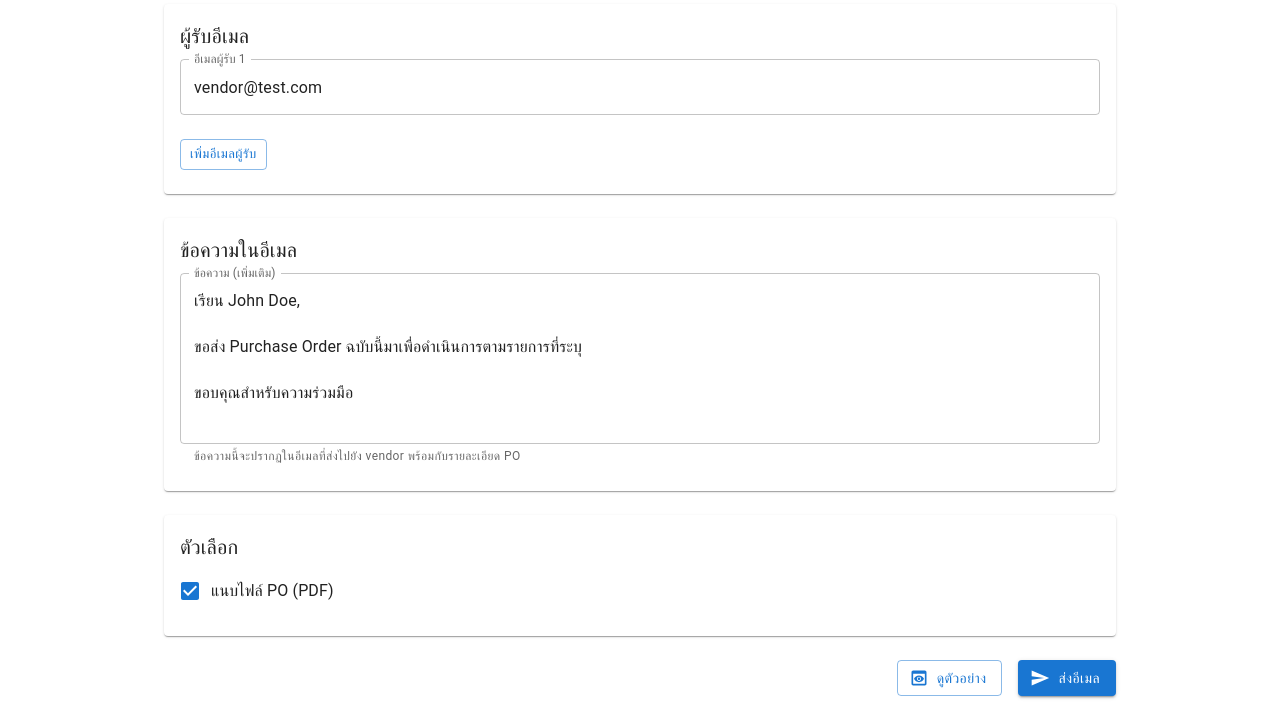
Test case: POEmailForm › Preview Functionality › opens preview dialog when preview button is clicked
(page scrolled)
Step 1. Click the button "ดูตัวอย่าง" → (950, 678), box [897, 660, 1002, 696]
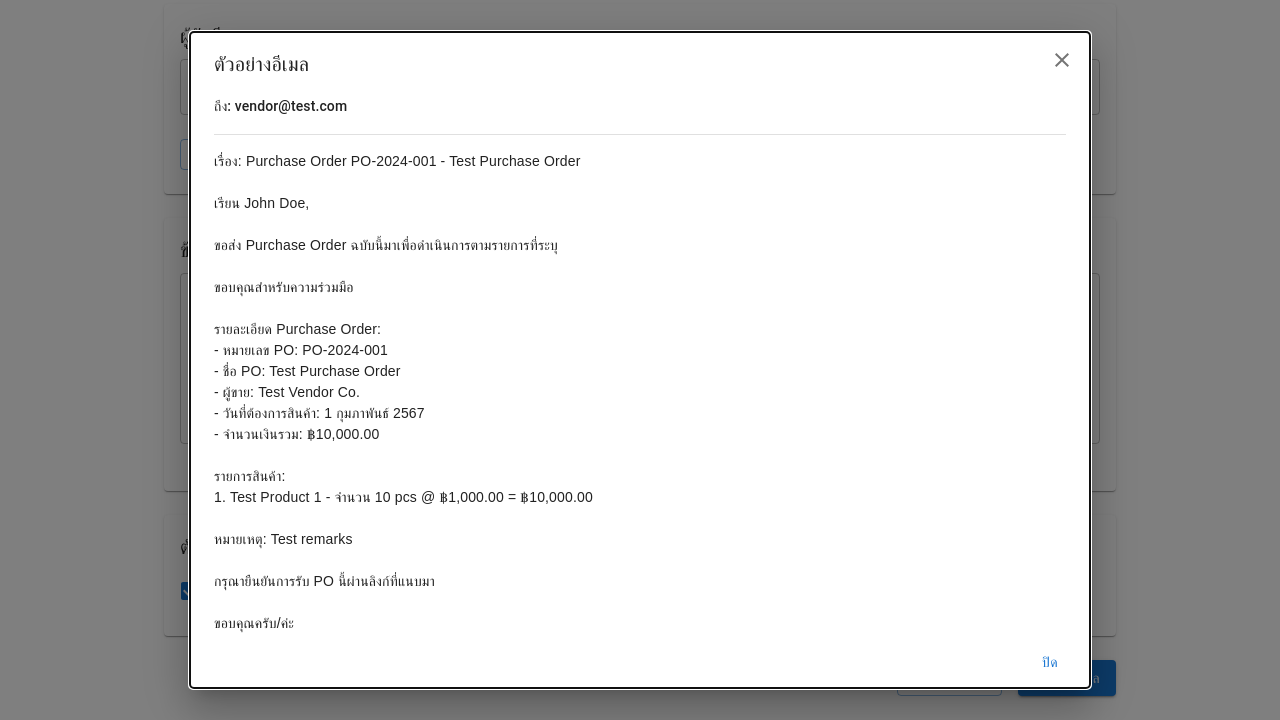
Result: the heading "ตัวอย่างอีเมล" is shown at [190, 32, 1090, 96]
Result: the text "Purchase Order PO-2024-001" is shown at [214, 153, 593, 631]
